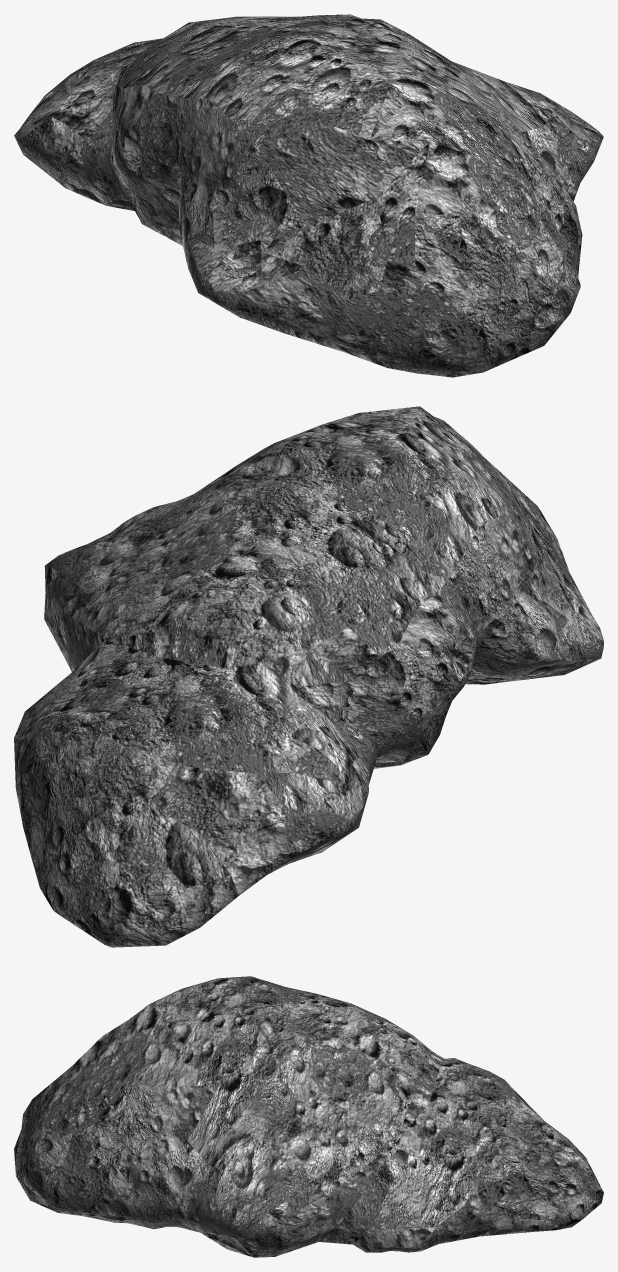
File: Asteroid_01.FBX
3 views of the same model, one above another, from view 1: azimuth 30°, elevation 25°; view 2: azimuth 150°, elevation 25°; view 3: azimuth 270°, elevation 25° (orthographic). The views are drawn at different scales.
Visible parts, largest first — view 1: shape; view 2: shape; view 3: shape.
Part boxes in pixels (bbox=[...]): shape: bbox=[14, 14, 603, 377]; shape: bbox=[14, 406, 603, 947]; shape: bbox=[14, 976, 603, 1257].
Size of the model in its own units: 334 by 210 by 499.
